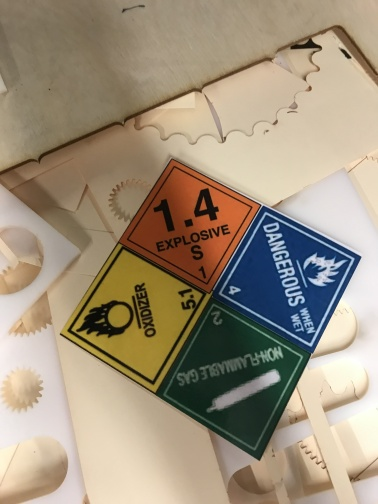DangerousWhenWet: (213, 207, 359, 352)
Explosive: (119, 159, 261, 292)
NonFlammableGas: (154, 298, 310, 461)
Oxidizer: (58, 242, 215, 392)
